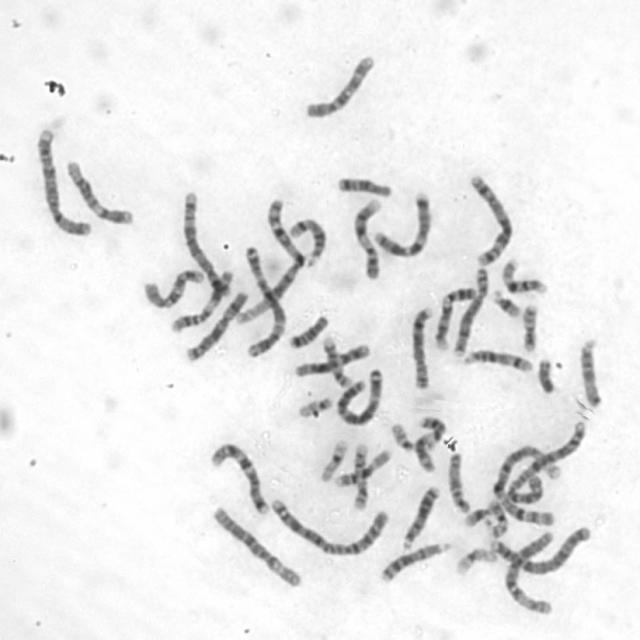A1: (234, 196, 306, 327), (490, 443, 562, 530)
A2: (504, 420, 586, 506), (267, 499, 390, 556)
A3: (244, 244, 288, 359), (334, 368, 384, 426)
B4: (34, 129, 92, 238), (490, 524, 590, 576)
B5: (181, 190, 231, 298), (468, 175, 515, 268)
C10: (304, 53, 376, 122), (140, 268, 204, 312)
C11: (168, 269, 234, 334), (413, 416, 448, 472)
C12: (66, 160, 134, 226), (293, 344, 371, 378)
C6: (211, 507, 306, 590), (503, 530, 556, 616)
C7: (207, 441, 271, 516), (372, 191, 431, 262)
C8: (452, 266, 489, 358), (409, 306, 436, 392)
C9: (433, 286, 477, 352), (353, 196, 382, 280)
D13: (378, 542, 453, 584), (400, 484, 441, 549)
D14: (288, 216, 328, 269), (462, 347, 534, 373)
D15: (576, 334, 604, 408), (446, 451, 474, 513)
E16: (333, 449, 392, 488), (502, 256, 548, 296)
E17: (321, 336, 354, 388), (350, 442, 369, 511)
E18: (288, 314, 329, 350), (335, 176, 393, 198)
F19: (454, 546, 499, 578), (318, 439, 350, 483)
F20: (485, 500, 510, 540), (521, 304, 539, 354)
G21: (492, 289, 521, 318), (462, 506, 492, 528)
G22: (296, 396, 335, 419), (389, 423, 414, 453)
X: (184, 291, 248, 363)
Y: (536, 358, 556, 395)
